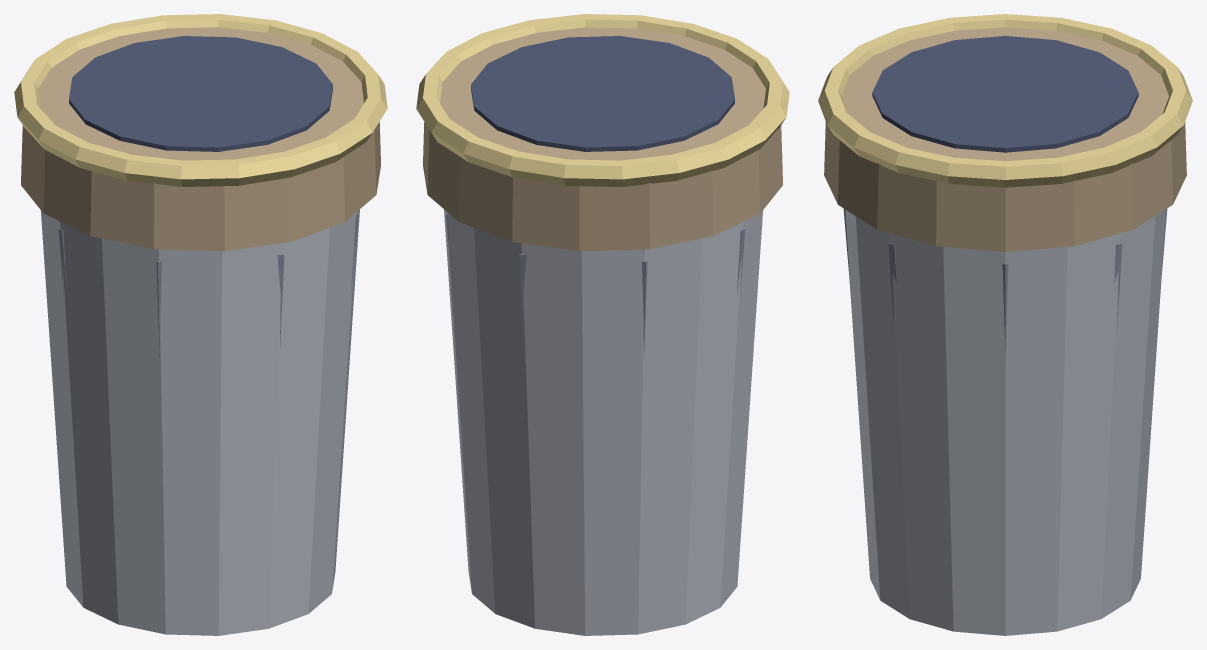
The model's file is canon_tubo.glb.
3 views of the same model, side by side, from view 1: azimuth 30°, elevation 25°; view 2: azimuth 150°, elevation 25°; view 3: azimuth 270°, elevation 25° (orthographic).
Parts seen in each view (by area): view 1: canon_tubo; view 2: canon_tubo; view 3: canon_tubo.
Part boxes in pixels (x1,y1,x2,y2): canon_tubo: [14, 14, 387, 635]; canon_tubo: [416, 14, 789, 635]; canon_tubo: [818, 14, 1192, 635].
Bounding box in the file's own units: 1.55 × 2.23 × 1.55.
